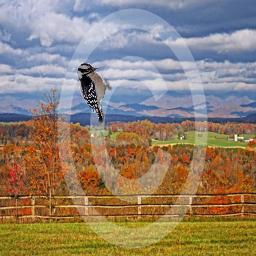Woodpecker: (77, 63, 112, 123)
